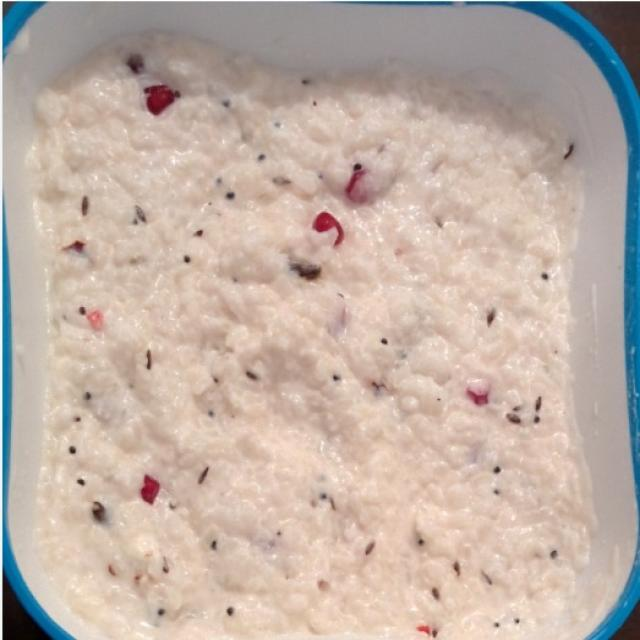CURD RICE: (12, 30, 605, 639)
